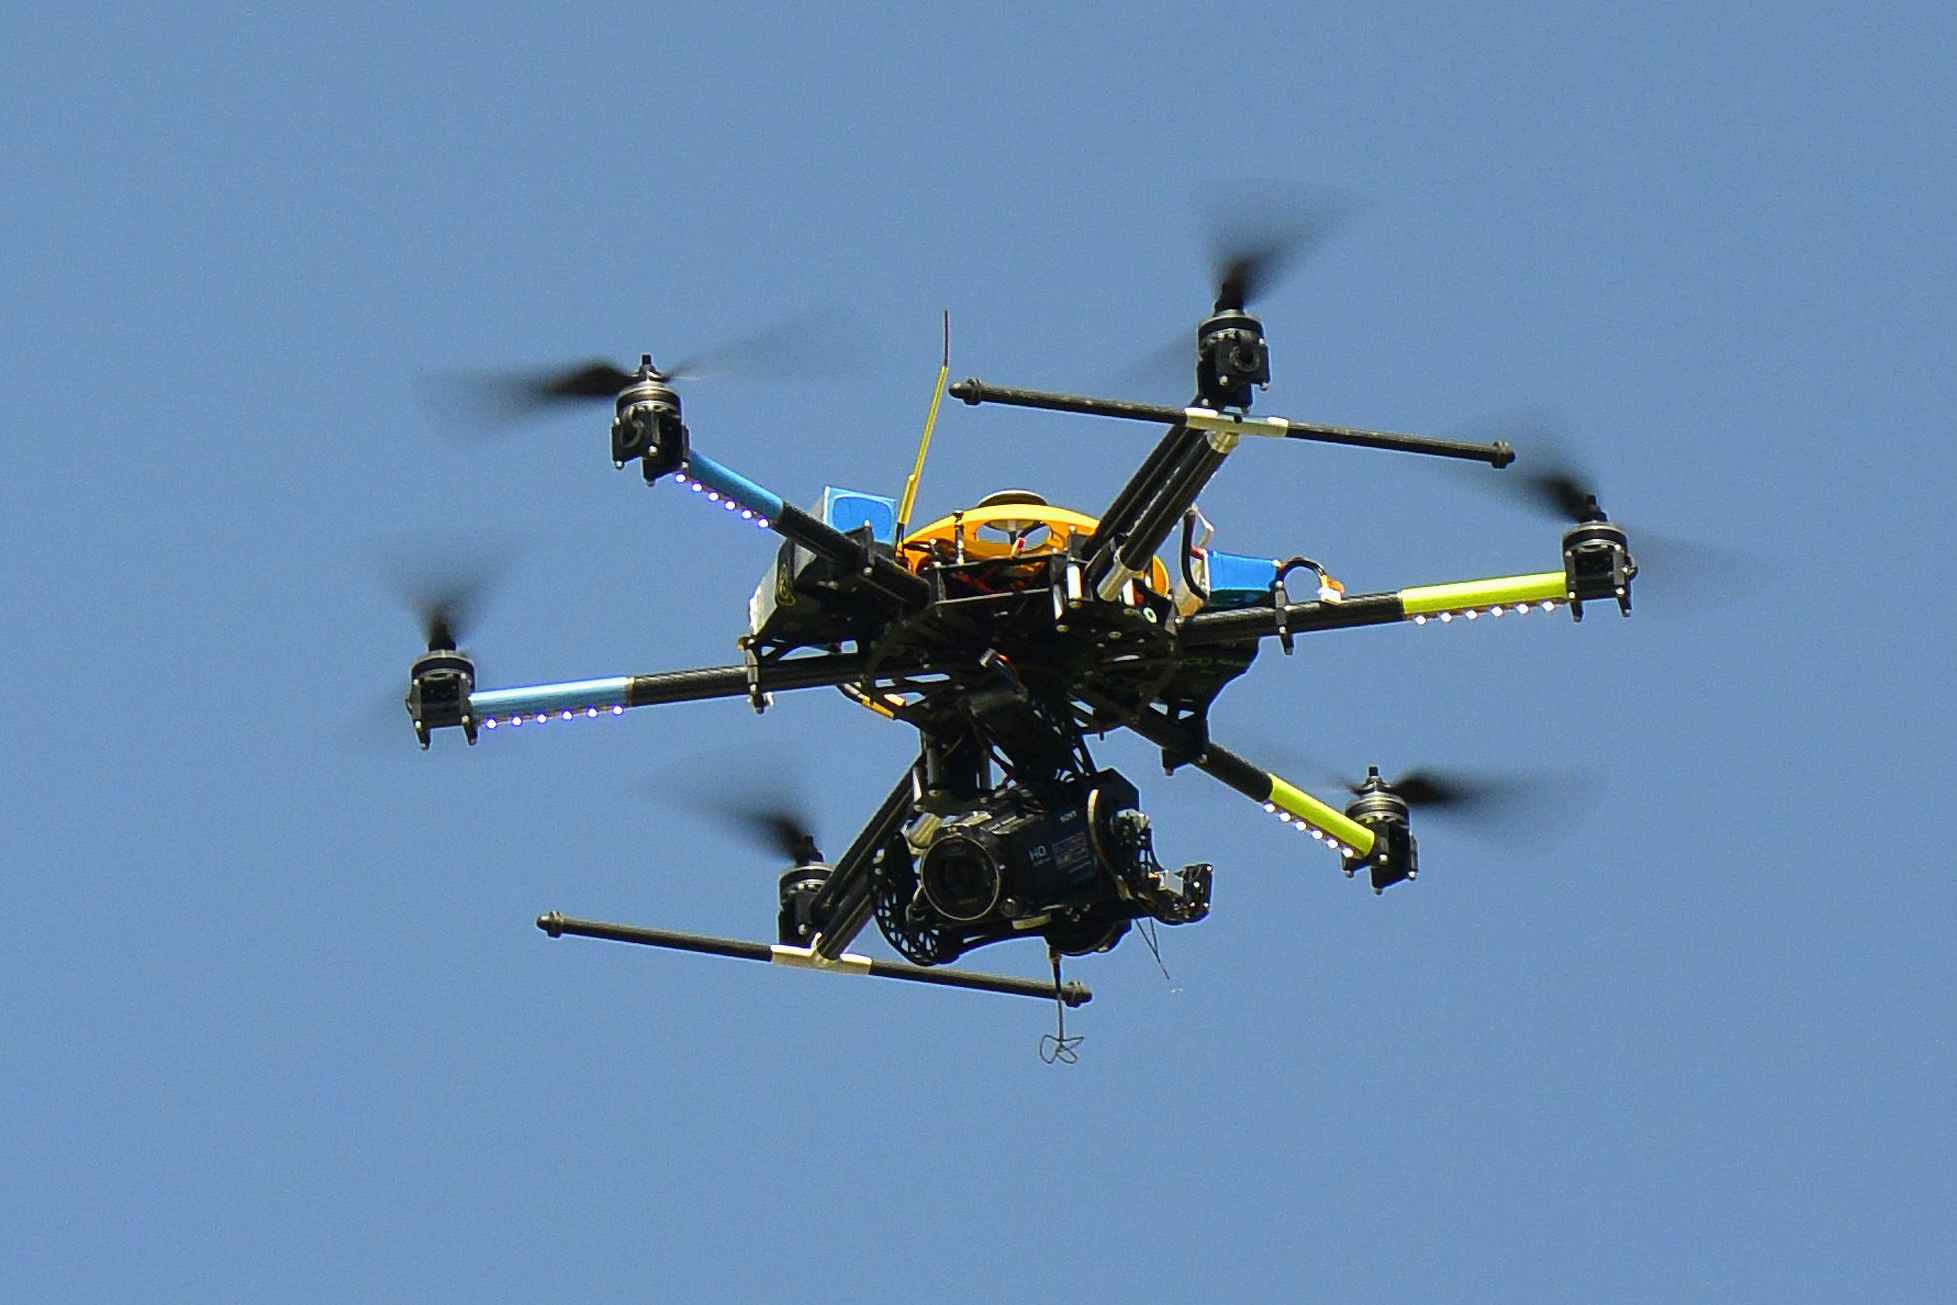drone: (322, 173, 1832, 1052)
